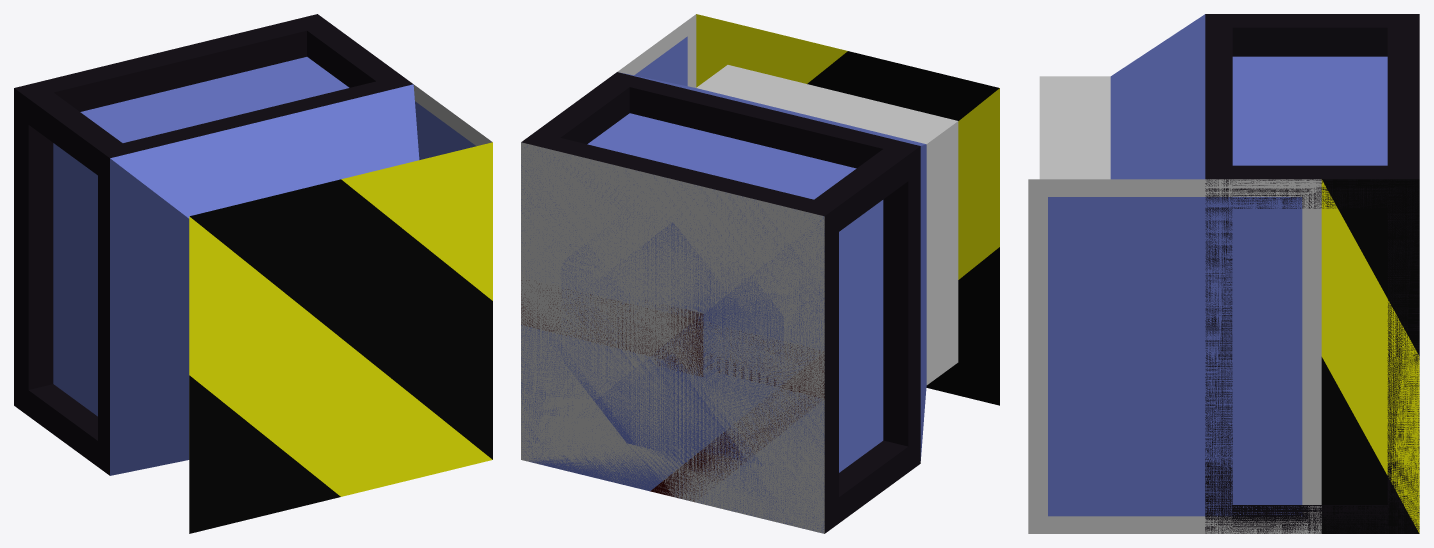
The model's file is tiles.obj.
3 renders of one model, left to right at view 1: azimuth 30°, elevation 25°; view 2: azimuth 150°, elevation 25°; view 3: azimuth 270°, elevation 25°, orthographic. The views are drawn at different scales.
Parts seen in each view (by area): view 1: tile8_Cube, tile9_Cube.001; view 2: tile8_Cube, tile2_Plane, tile3_Plane.003, tile9_Cube.001, tile1, tile0_Plane.001, tile4_Plane.002; view 3: tile9_Cube.001, tile8_Cube.
Boxes of the visible parts, x1,y1,x2,y2 form: tile8_Cube: (14,14,419,475); tile9_Cube.001: (189,84,492,533); tile8_Cube: (521,65,958,533); tile2_Plane: (521,143,824,533); tile3_Plane.003: (521,142,824,531); tile9_Cube.001: (617,14,999,405); tile1: (521,143,824,533); tile0_Plane.001: (521,143,824,533); tile4_Plane.002: (521,145,824,533); tile9_Cube.001: (1028,179,1419,533); tile8_Cube: (1039,14,1419,533).
Bounding box in the file's own units: 1 × 1 × 1.
